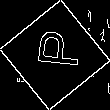P_W: (28, 34, 82, 76)
